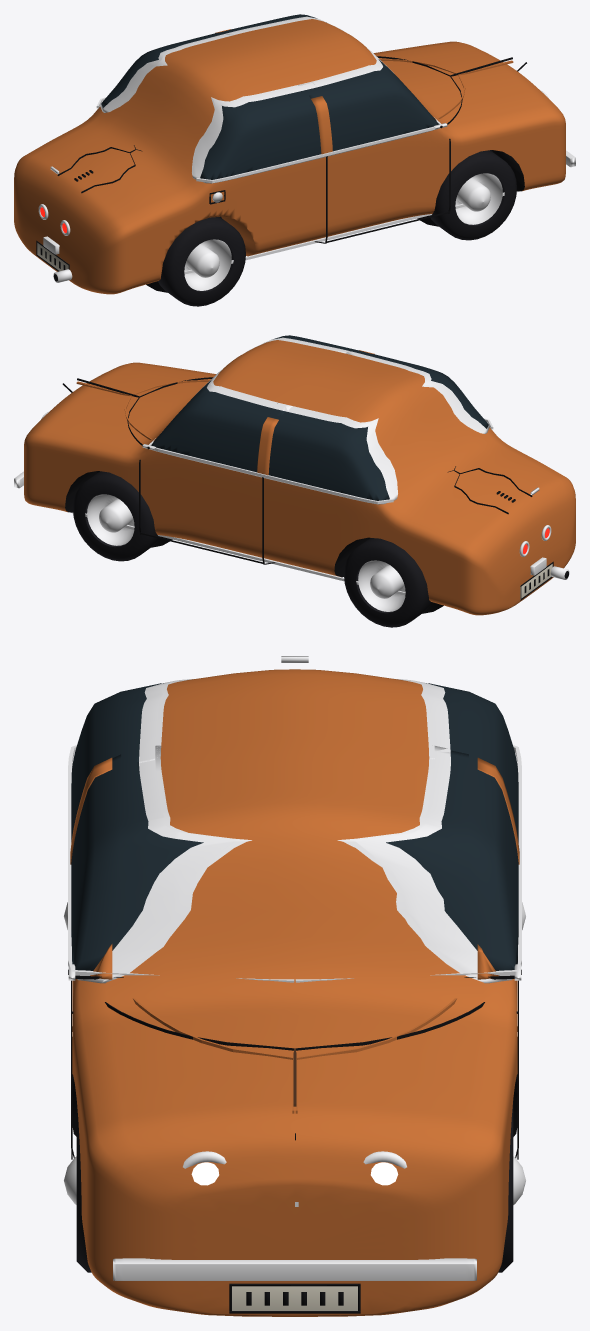
Rendered from t1_chimp.glb.
3 renders of one model, top to bottom at view 1: azimuth 30°, elevation 25°; view 2: azimuth 150°, elevation 25°; view 3: azimuth 270°, elevation 25°, orthographic. The views are drawn at different scales.
Parts seen in each view (by area): view 1: paint_00, glass_01, glass_00, tyre_01, tyre_03, chrome_04, chrome_03, chrome_19, chrome_17, chrome_23, chrome_21, chrome_13 (+3 smaller); view 2: paint_00, glass_01, glass_00, tyre_00, tyre_02, chrome_04, chrome_03, chrome_18, chrome_16, chrome_22, trim_04, chrome_20 (+3 smaller); view 3: paint_00, glass_00, chrome_03, glass_01, chrome_00, chrome_04, wall_00, chrome_22, chrome_23, tyre_02, tyre_03, paint_01 (+1 smaller).
Boxes of the visible parts, bbox=[...] form: paint_00: bbox=[14, 19, 565, 294]; glass_01: bbox=[101, 30, 321, 179]; glass_00: bbox=[224, 14, 438, 151]; tyre_01: bbox=[158, 217, 245, 306]; tyre_03: bbox=[429, 150, 516, 240]; chrome_04: bbox=[100, 33, 328, 183]; chrome_03: bbox=[226, 16, 437, 158]; chrome_19: bbox=[455, 173, 502, 224]; chrome_17: bbox=[184, 239, 231, 290]; chrome_23: bbox=[196, 117, 441, 183]; chrome_21: bbox=[184, 191, 519, 274]; chrome_13: bbox=[185, 244, 219, 277]; paint_00: bbox=[24, 340, 575, 615]; glass_01: bbox=[268, 352, 488, 500]; glass_00: bbox=[151, 335, 363, 472]; tyre_00: bbox=[344, 538, 431, 627]; tyre_02: bbox=[73, 471, 160, 561]; chrome_04: bbox=[255, 351, 489, 504]; chrome_03: bbox=[152, 337, 358, 476]; chrome_18: bbox=[87, 494, 134, 545]; chrome_16: bbox=[358, 560, 405, 611]; chrome_22: bbox=[148, 438, 393, 504]; trim_04: bbox=[65, 471, 368, 577]; chrome_20: bbox=[70, 512, 405, 595]; paint_00: bbox=[72, 669, 517, 1316]; glass_00: bbox=[71, 750, 518, 970]; chrome_03: bbox=[72, 745, 517, 983]; glass_01: bbox=[71, 683, 518, 841]; chrome_00: bbox=[113, 1258, 476, 1280]; chrome_04: bbox=[139, 679, 450, 763]; wall_00: bbox=[232, 1286, 357, 1310]; chrome_22: bbox=[295, 745, 521, 982]; chrome_23: bbox=[68, 745, 294, 982]; tyre_02: bbox=[498, 1101, 513, 1272]; tyre_03: bbox=[76, 1101, 91, 1272]; paint_01: bbox=[295, 998, 456, 1113].
Size of the model in its own units: 10.37 by 3.92 by 4.23.
